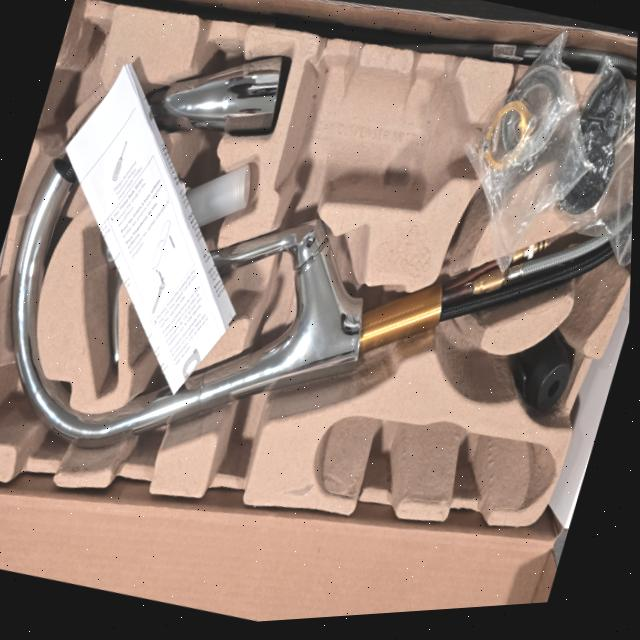1o: (10, 53, 633, 446)
2o: (99, 165, 248, 364)
3m: (272, 59, 493, 208)
4m: (312, 418, 553, 510)
5: (508, 328, 570, 412)
6: (460, 31, 593, 280)
7o: (542, 51, 636, 264)
8: (61, 61, 236, 396)
